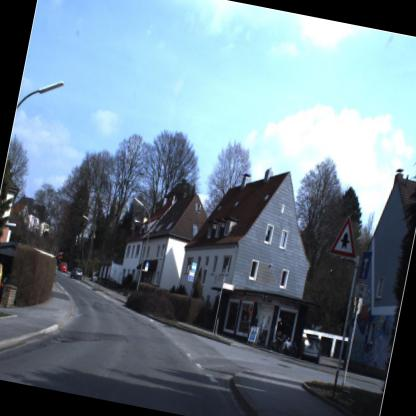danger: (327, 207, 363, 265)
